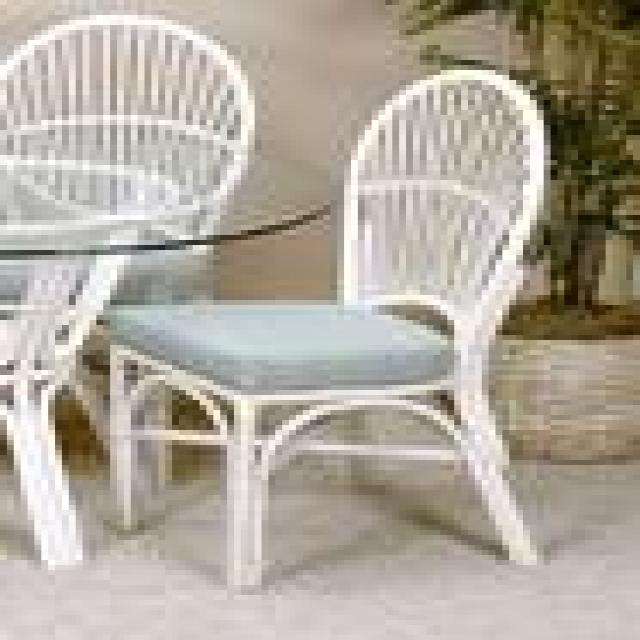Chair: (114, 60, 591, 610)
Table: (0, 86, 356, 594)
